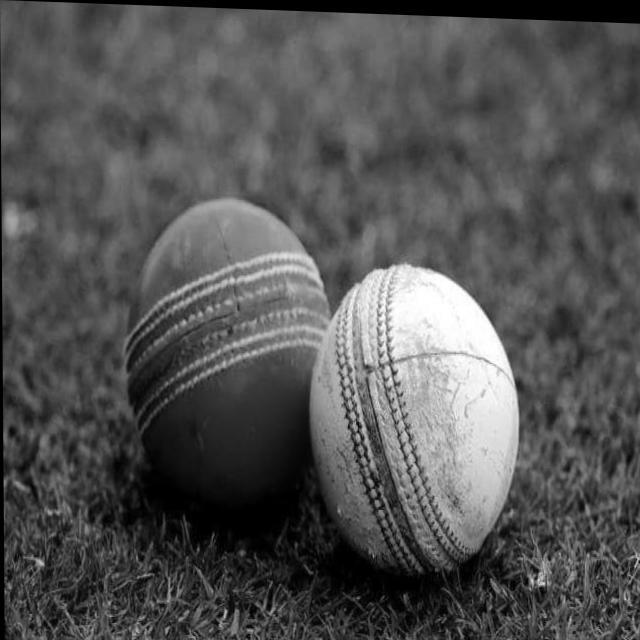cricket ball: (308, 261, 518, 575), (123, 194, 331, 506)
